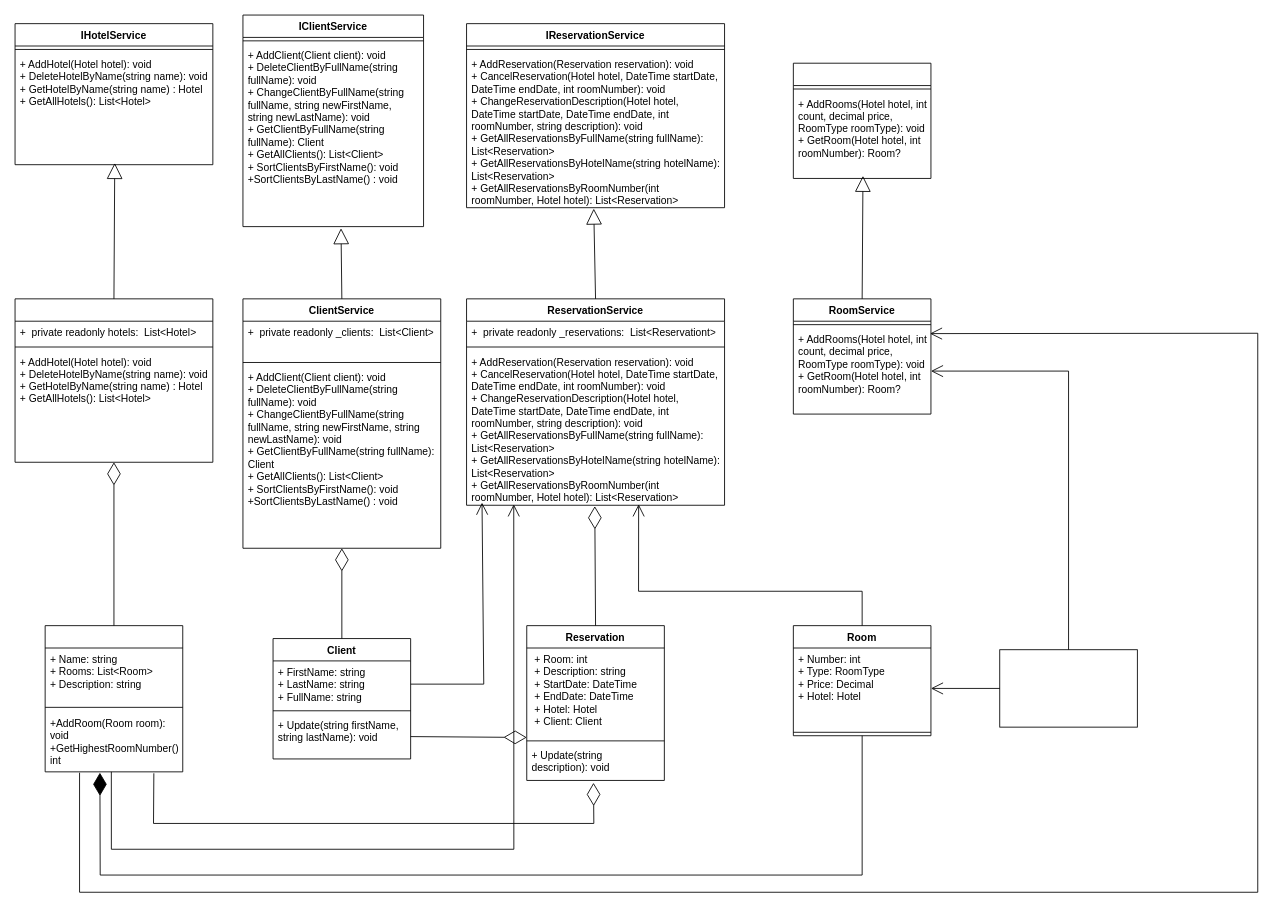
The diagram is 1285 pixels wide and 919 high, and some of its shapes have lost their labels. Here are the shapes that lost their labels. From the top down, the box of each, then its label:
(792, 62, 931, 178): IRoomService
(14, 298, 213, 462): HotelService
(44, 625, 183, 772): Hotel
(999, 649, 1137, 727): RoomType:Enum field1 = value1 field2 = value2 field3 = value3
